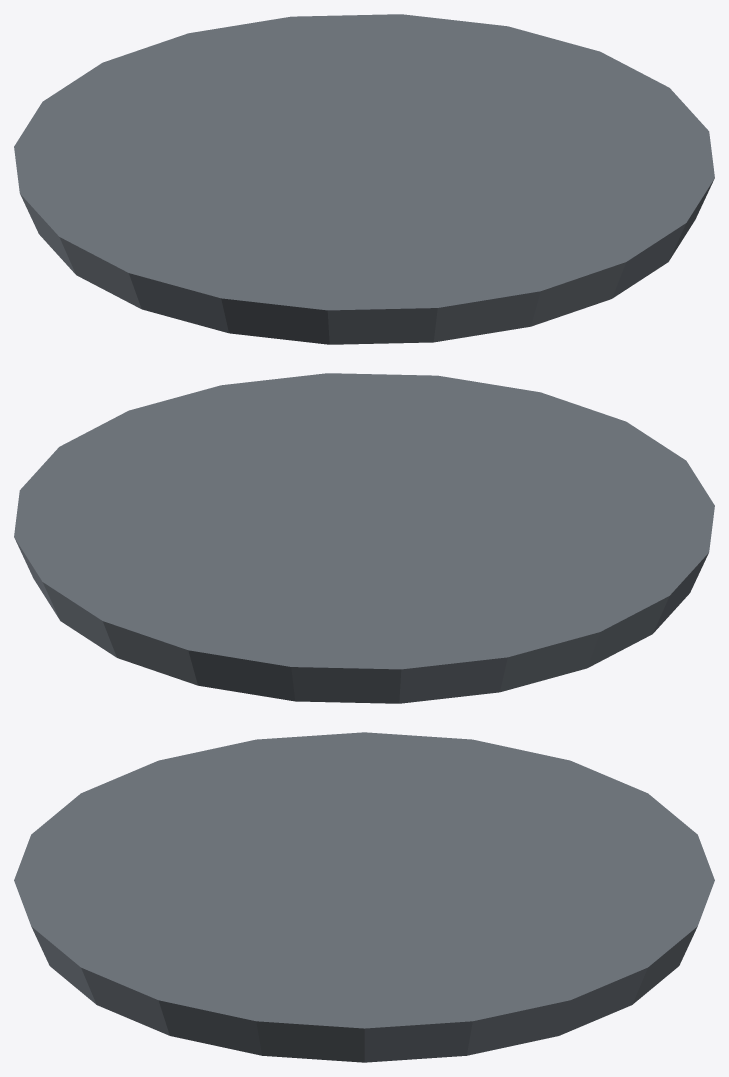
Rendered from tray.glb.
3 views of the same model, one above another, from view 1: azimuth 30°, elevation 25°; view 2: azimuth 150°, elevation 25°; view 3: azimuth 270°, elevation 25° (orthographic).
Visible parts, largest first — view 1: tray_mesh; view 2: tray_mesh; view 3: tray_mesh.
Part boxes in pixels (<box>): tray_mesh: <box>14,14,714,344</box>; tray_mesh: <box>14,373,714,703</box>; tray_mesh: <box>14,732,714,1062</box>.
Size of the model in its own units: 0.36 by 0.024 by 0.36.
Materials: 1 (1 with a texture image).
